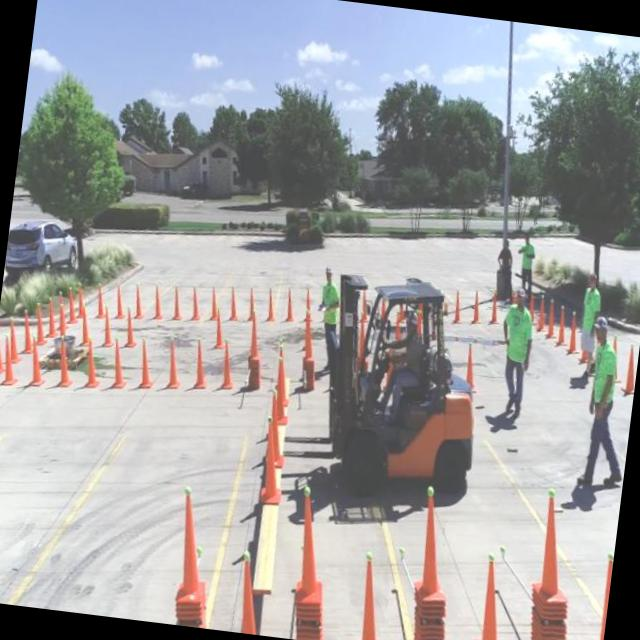forklift: (305, 252, 500, 503)
person: (565, 314, 640, 495), (486, 282, 550, 425), (313, 270, 344, 332), (513, 233, 538, 290), (579, 272, 604, 328)
